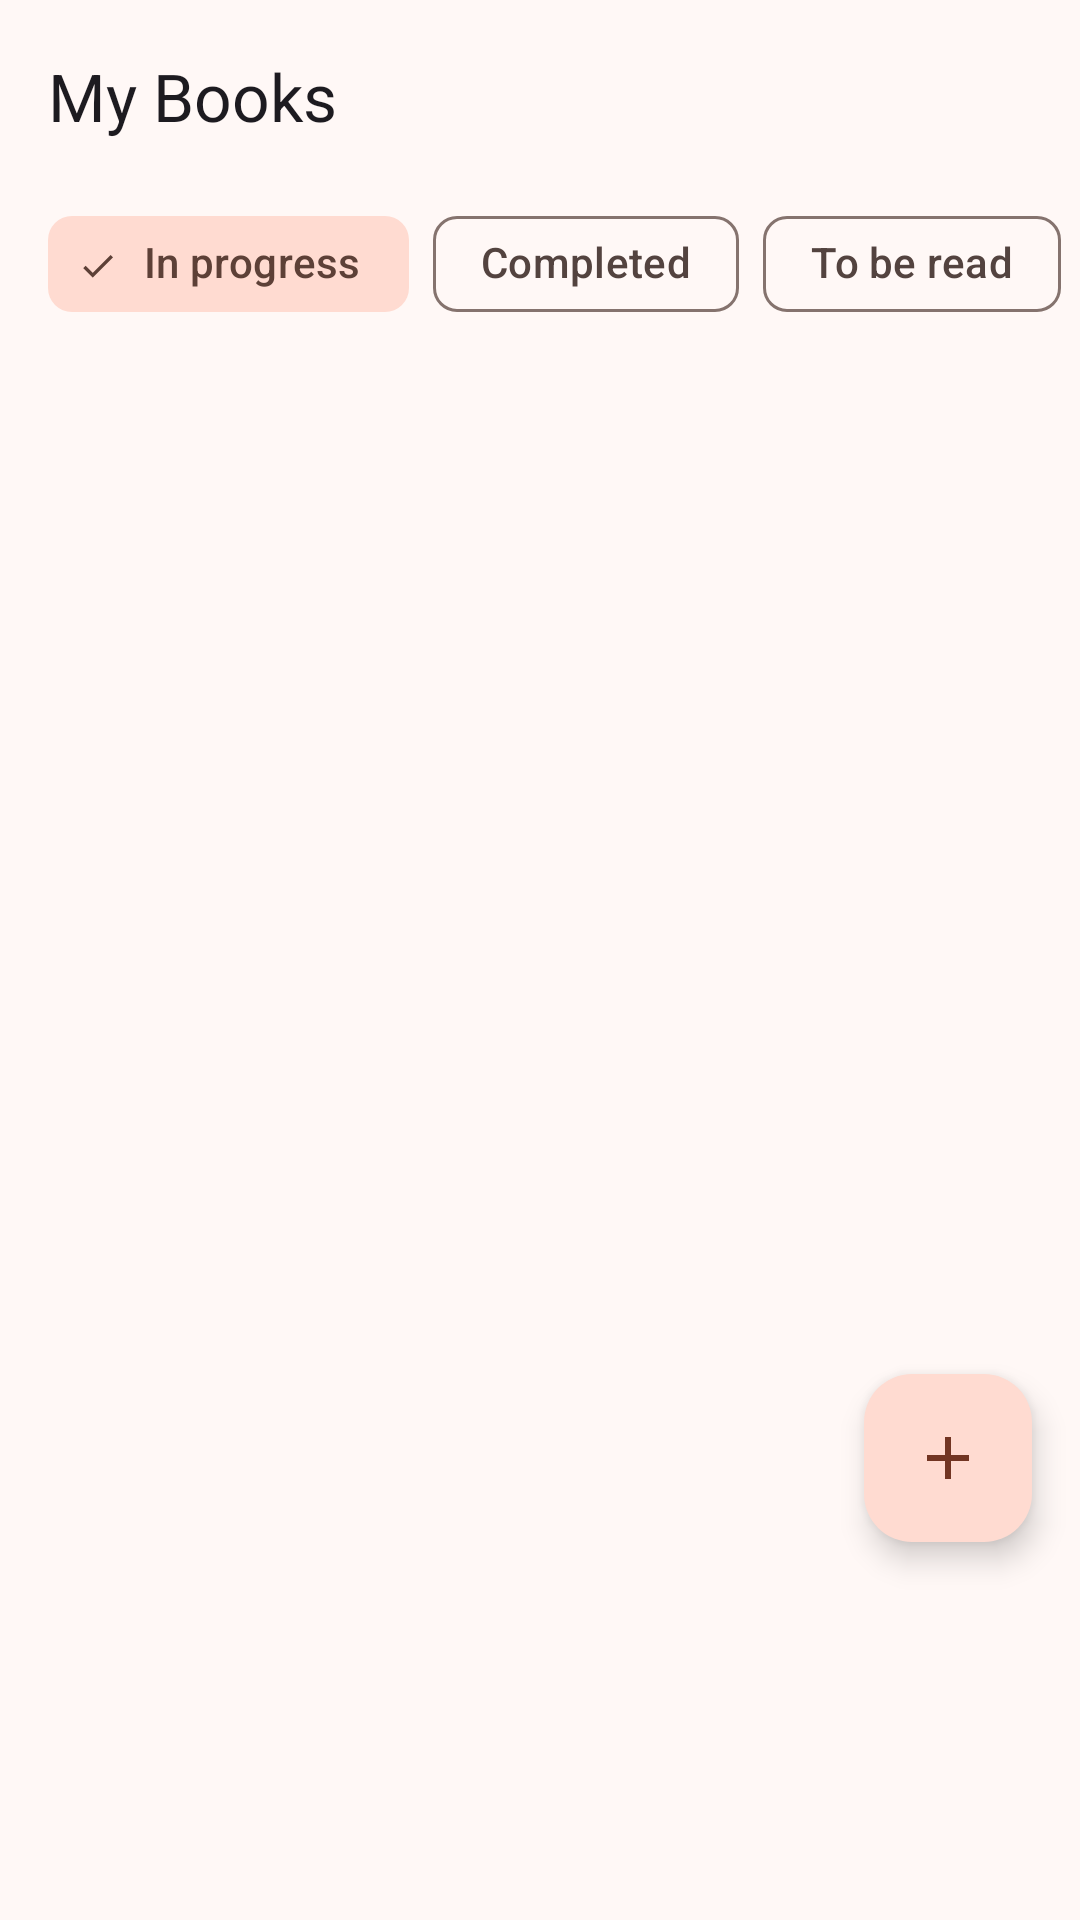

Named icons in this screenshot (1080px×1920px) and their centers, point (x, y):
Add new book: point (948, 1458)
